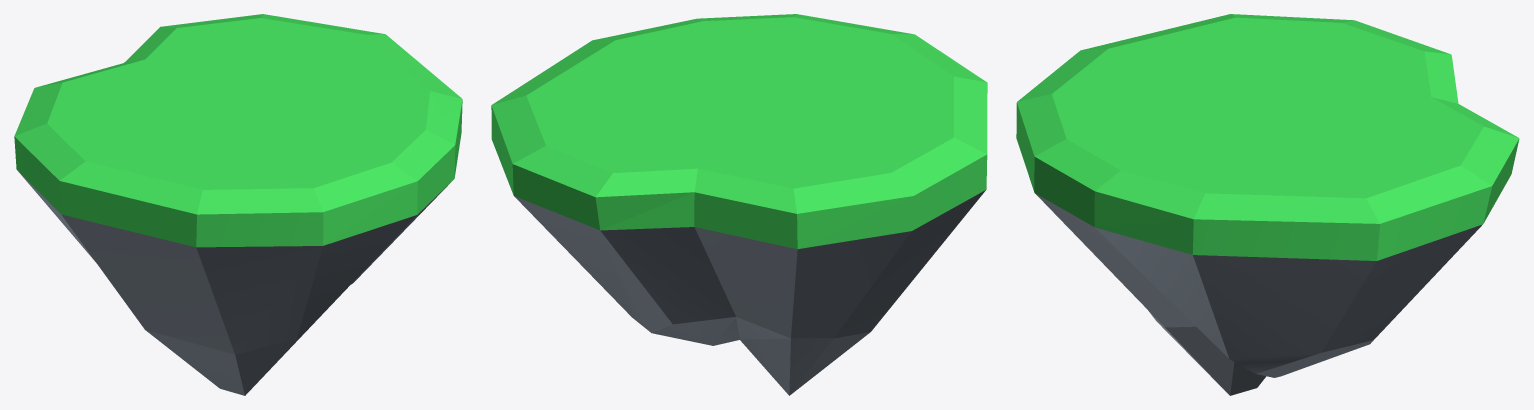
Rendered from testmodelsisland_Island_003.fbx.
The picture shows the model from 3 angles, left to right: view 1: azimuth 30°, elevation 25°; view 2: azimuth 150°, elevation 25°; view 3: azimuth 270°, elevation 25°; orthographic projection. The views are drawn at different scales.
Parts seen in each view (by area): view 1: island_Island_003; view 2: island_Island_003; view 3: island_Island_003.
Boxes of the visible parts, left/top/right/bottom form: island_Island_003: left=14, top=14, right=462, bottom=395; island_Island_003: left=491, top=14, right=987, bottom=395; island_Island_003: left=1016, top=14, right=1519, bottom=395.
Bounding box in the file's own units: 1684 × 1101 × 1700.
